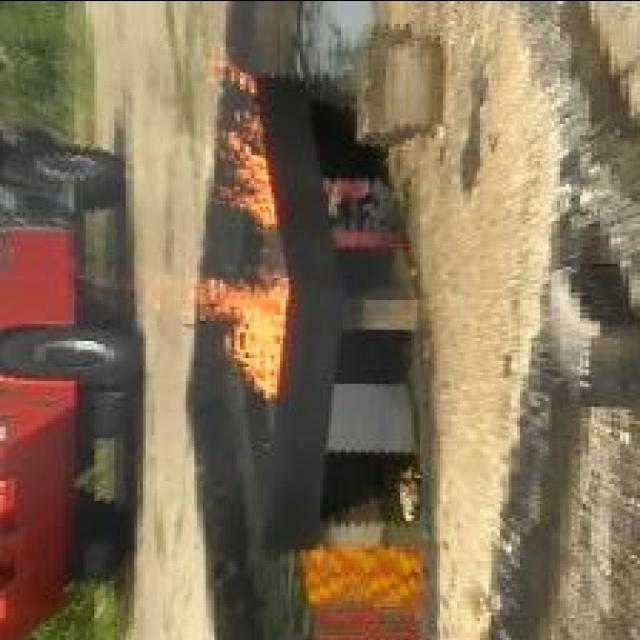Fire: (125, 276, 292, 398), (207, 56, 279, 228)
